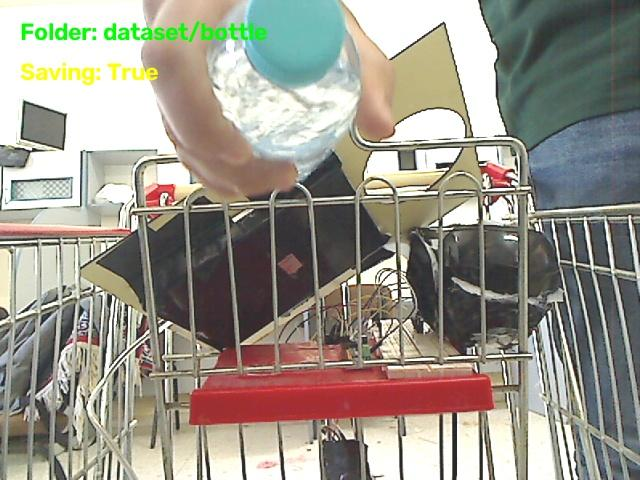Bottle: (209, 0, 360, 179), (209, 0, 360, 178)
